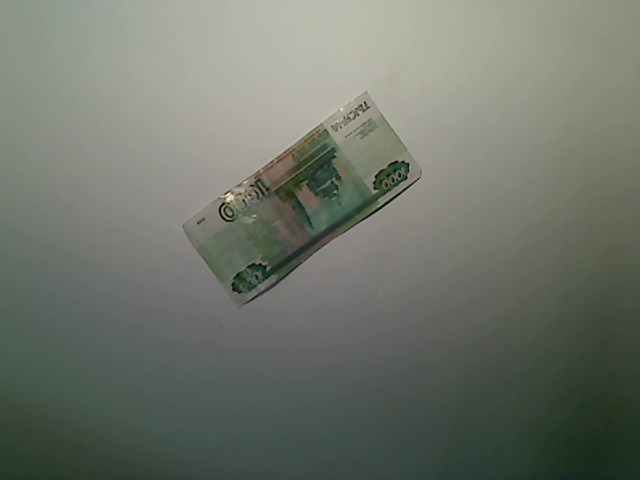banknotes: (179, 87, 427, 311)
